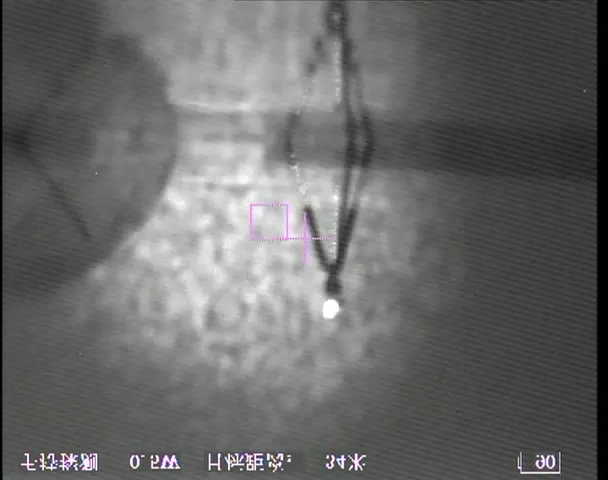my: (321, 298, 341, 320)
